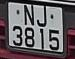1: (37, 28, 47, 51)
3: (12, 24, 25, 48)
5: (48, 27, 61, 54)
8: (24, 27, 36, 49)
J: (35, 5, 49, 28)
N: (23, 4, 36, 27)
